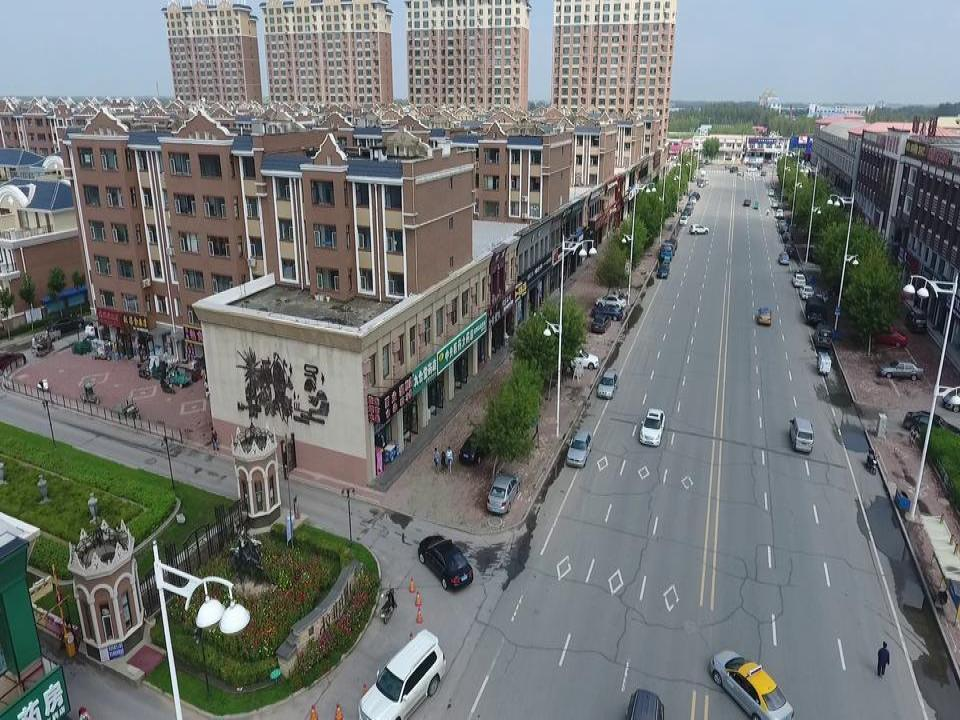car: (709, 650, 796, 720), (418, 536, 472, 589), (902, 409, 960, 443), (459, 425, 493, 467), (486, 473, 518, 515), (640, 406, 665, 446), (877, 360, 925, 380), (567, 431, 590, 468), (870, 327, 908, 348), (562, 350, 598, 369), (44, 316, 84, 332), (597, 369, 616, 400), (591, 304, 623, 321), (594, 292, 625, 309), (813, 324, 833, 349), (907, 308, 927, 333), (591, 313, 610, 336), (756, 307, 773, 325), (798, 285, 814, 300), (689, 225, 709, 236), (791, 272, 805, 287), (656, 262, 669, 278), (784, 243, 796, 256), (779, 252, 790, 265), (783, 230, 792, 243), (778, 225, 789, 235), (776, 209, 784, 219), (678, 215, 686, 225), (690, 192, 700, 200), (746, 165, 757, 172), (686, 200, 693, 211), (778, 220, 787, 228), (683, 207, 691, 216), (689, 196, 696, 205), (767, 189, 774, 196), (744, 198, 750, 206), (772, 200, 778, 208), (761, 171, 766, 176)
truck: (806, 300, 825, 325), (816, 353, 832, 375)
van: (359, 629, 449, 720), (788, 417, 813, 454)
